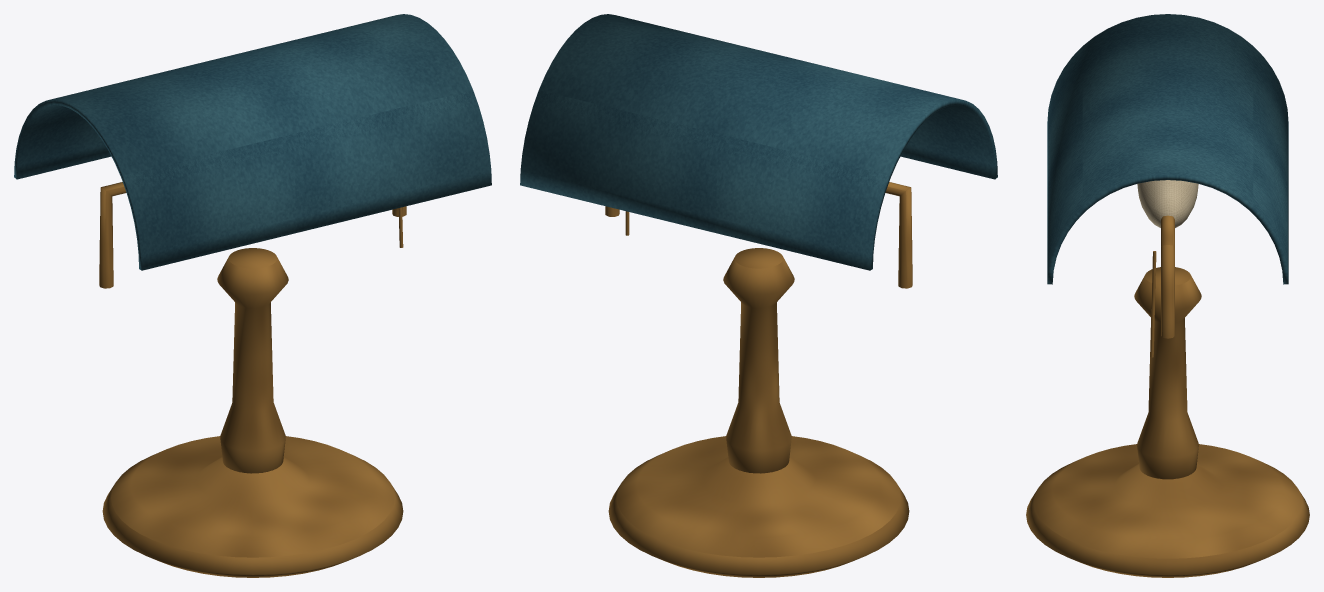
The model's file is BankerLamp.fbx.
3 renders of one model, left to right at view 1: azimuth 30°, elevation 25°; view 2: azimuth 150°, elevation 25°; view 3: azimuth 270°, elevation 25°, orthographic. The views are drawn at different scales.
Visible parts, largest first — view 1: BankerLamp_BlueGlaze, BankerLamp_Brass; view 2: BankerLamp_BlueGlaze, BankerLamp_Brass; view 3: BankerLamp_BlueGlaze, BankerLamp_Brass, BankerLamp_Glow.
Part boxes in pixels (left/top/right/bottom): BankerLamp_BlueGlaze: left=14, top=14, right=491, bottom=270; BankerLamp_Brass: left=99, top=182, right=406, bottom=577; BankerLamp_BlueGlaze: left=520, top=14, right=997, bottom=270; BankerLamp_Brass: left=605, top=182, right=912, bottom=577; BankerLamp_BlueGlaze: left=1047, top=14, right=1288, bottom=284; BankerLamp_Brass: left=1026, top=215, right=1309, bottom=577; BankerLamp_Glow: left=1137, top=180, right=1198, bottom=227.
Bounding box in the file's own units: 43 × 53.6 × 32.
